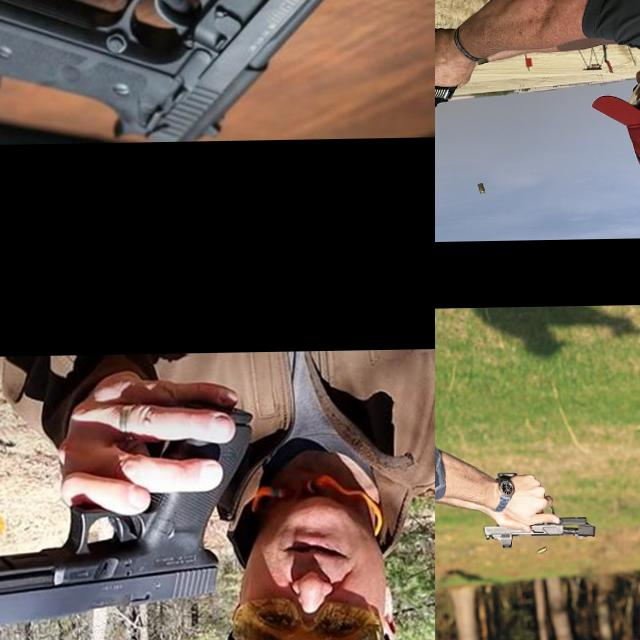handgun: (0, 392, 257, 634), (0, 0, 412, 144), (478, 502, 596, 549), (435, 65, 469, 112)
